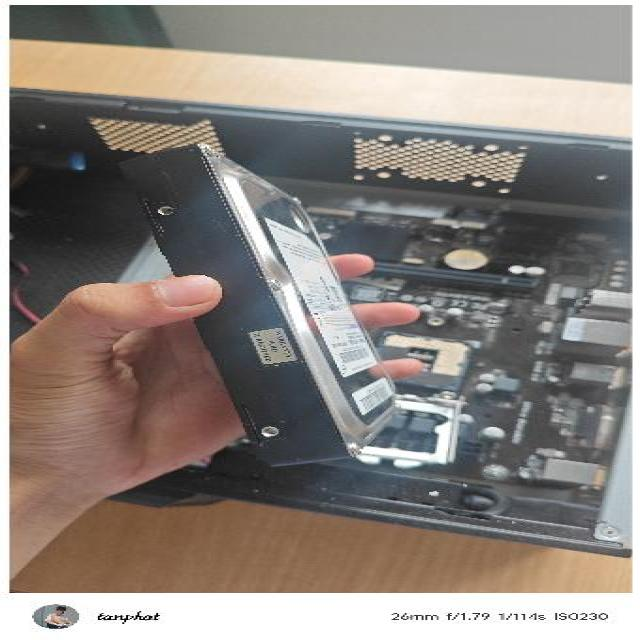DISK: (111, 139, 405, 471)
